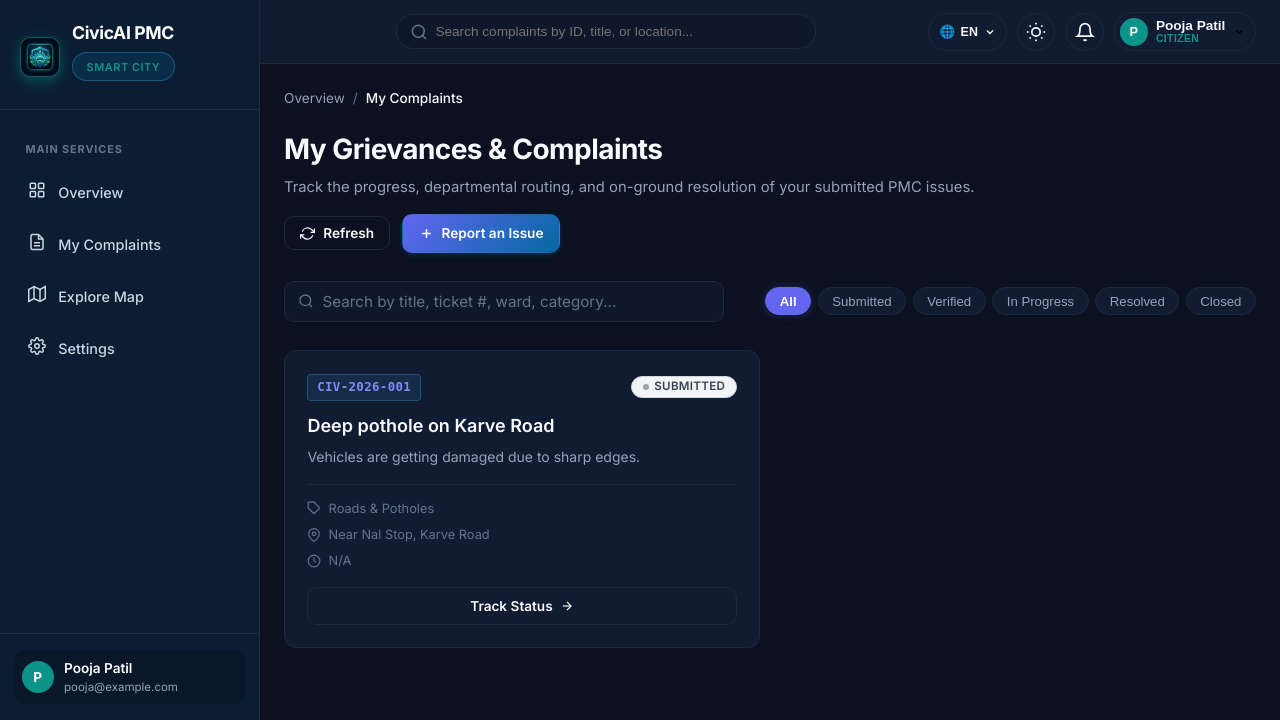
Scenario: ComplaintListPage Component › Acceptance Criteria: Given the complaint list, when an admin changes the status to "In Progress", then on refresh the citizen sees the updated badge
Expected: the message reads "Submitted", [654,379,725,393]
Note: Citizen clicks Refresh button
Step 1. Click the button with aria-label "Refresh complaint list" → point(337, 233), box [284,216,390,250]
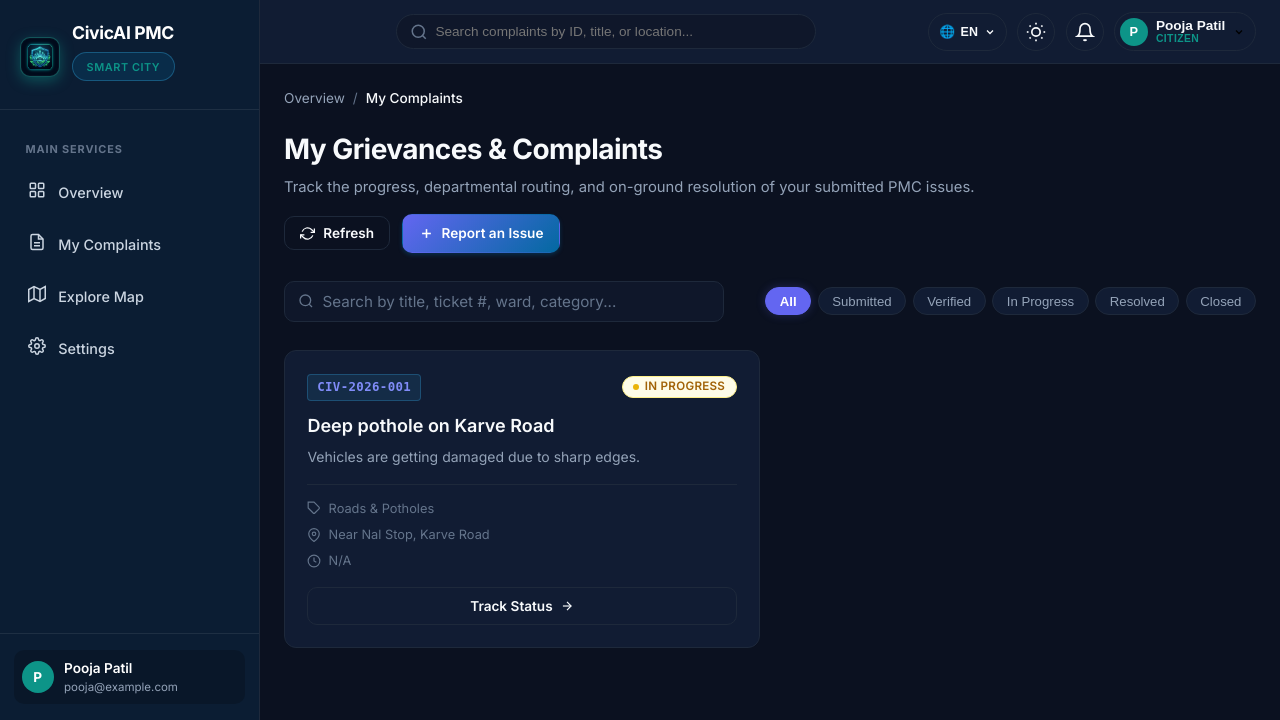
Now the message reads "In Progress", box [645,379,725,393]
